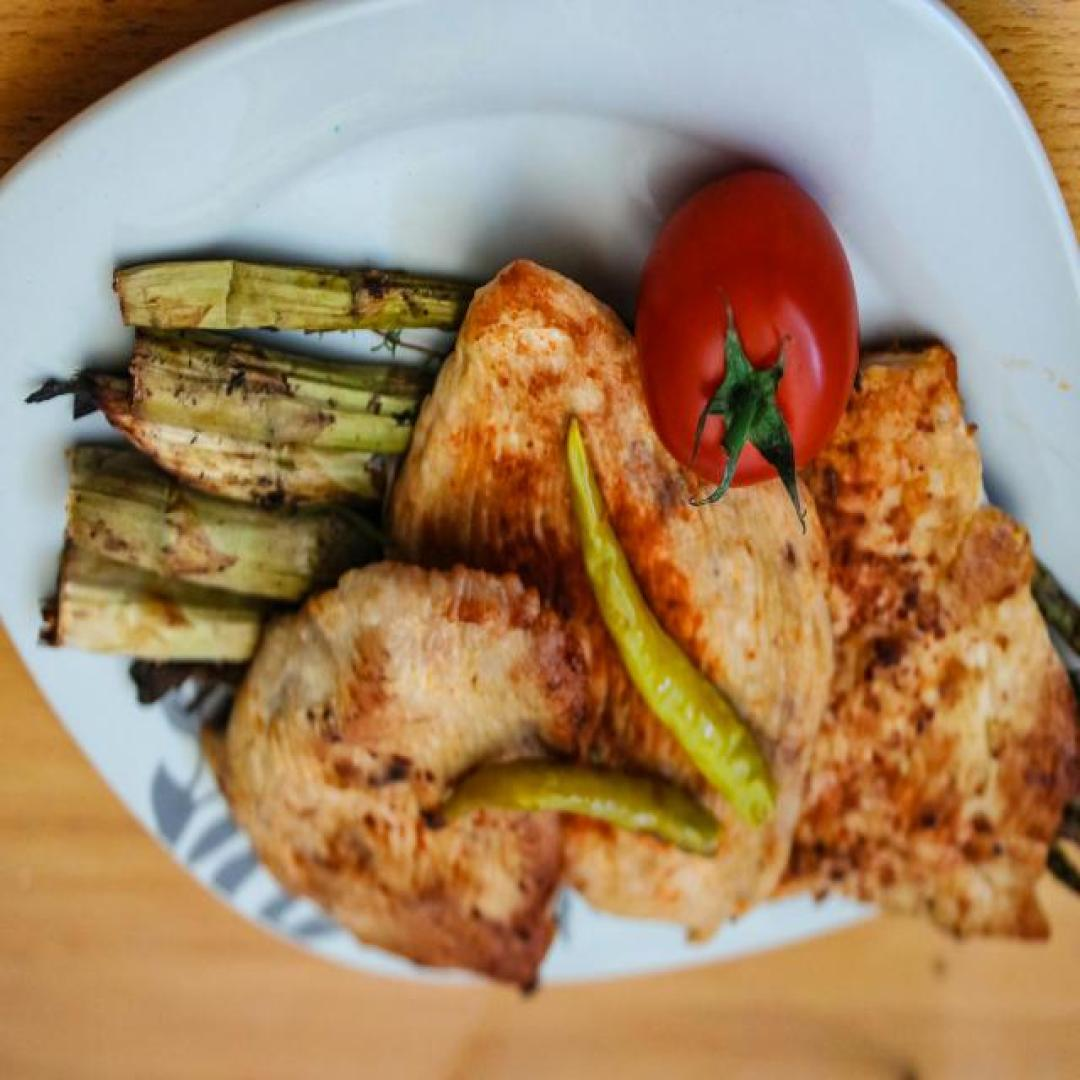matang: (636, 170, 861, 488)
